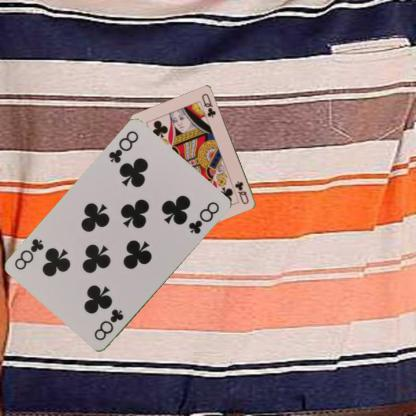8c: (106, 128, 140, 166), (92, 306, 126, 343)
Qc: (232, 178, 250, 206)
